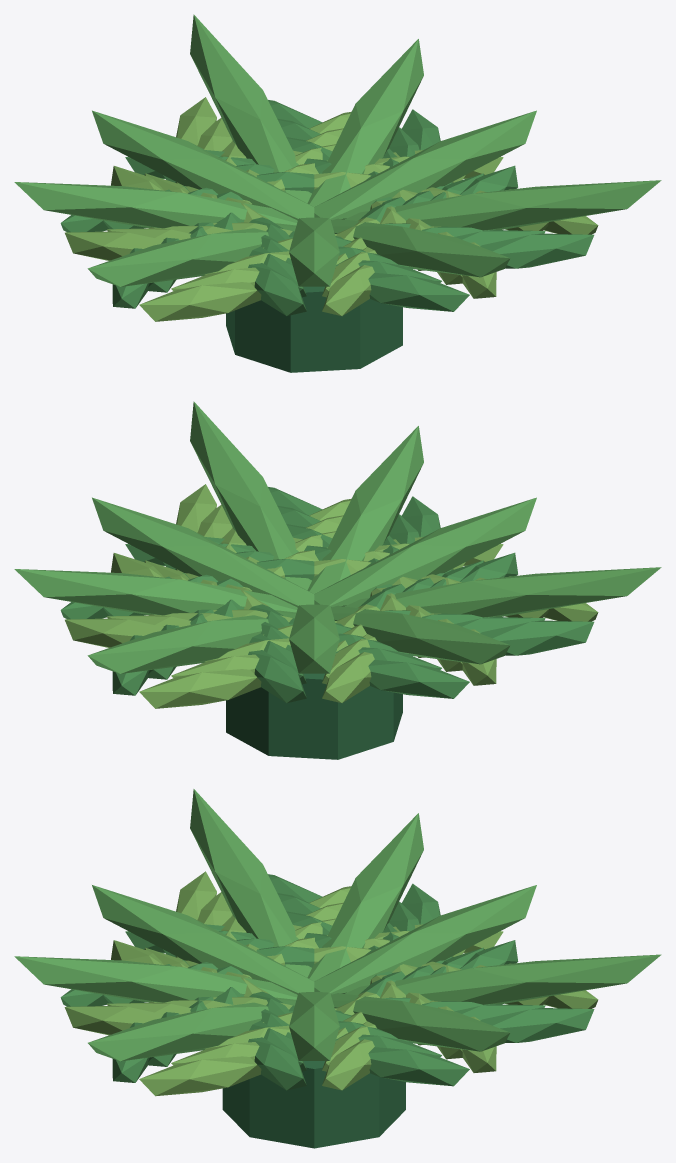
File: fern-cluster.glb
3 renders of one model, top to bottom at view 1: azimuth 30°, elevation 25°; view 2: azimuth 150°, elevation 25°; view 3: azimuth 270°, elevation 25°, orthographic.
Parts seen in each view (by area): view 1: Fern base, Fern frond 08, Fern frond 00, Fern frond 04, Fern frond 03, Fern frond 02, Fern frond 01, Fern frond 05, Fern frond 07, Fern leaflet.047, Fern frond 06, Fern leaflet.064 (+23 smaller); view 2: Fern base, Fern frond 05, Fern frond 06, Fern frond 01, Fern frond 00, Fern frond 08, Fern frond 07, Fern frond 02, Fern frond 04, Fern leaflet.023, Fern frond 03, Fern leaflet.040 (+23 smaller); view 3: Fern base, Fern frond 02, Fern frond 03, Fern frond 07, Fern frond 06, Fern frond 05, Fern frond 04, Fern frond 08, Fern frond 01, Fern leaflet.071, Fern frond 00, Fern leaflet.016 (+23 smaller).
Boxes of the visible parts, x1,y1,x2,y2 form: Fern base: [226, 286, 402, 372]; Fern frond 08: [345, 180, 661, 230]; Fern frond 00: [314, 110, 536, 220]; Fern frond 04: [14, 182, 297, 228]; Fern frond 03: [92, 110, 314, 220]; Fern frond 02: [190, 14, 311, 203]; Fern frond 01: [307, 39, 423, 206]; Fern frond 05: [87, 225, 295, 286]; Fern frond 07: [331, 218, 510, 277]; Fern leaflet.047: [139, 282, 261, 321]; Fern frond 06: [289, 217, 339, 286]; Fern leaflet.064: [368, 272, 469, 311]; Fern base: [226, 673, 402, 759]; Fern frond 05: [345, 567, 661, 617]; Fern frond 06: [314, 497, 536, 607]; Fern frond 01: [14, 569, 297, 615]; Fern frond 00: [92, 497, 314, 607]; Fern frond 08: [190, 401, 311, 590]; Fern frond 07: [307, 426, 423, 593]; Fern frond 02: [87, 612, 295, 673]; Fern frond 04: [331, 605, 510, 664]; Fern leaflet.023: [139, 669, 261, 708]; Fern frond 03: [289, 604, 339, 673]; Fern leaflet.040: [368, 659, 469, 698]; Fern base: [222, 1061, 405, 1148]; Fern frond 02: [344, 954, 661, 1004]; Fern frond 03: [314, 885, 536, 994]; Fern frond 07: [14, 956, 297, 1002]; Fern frond 06: [92, 885, 314, 994]; Fern frond 05: [190, 789, 311, 977]; Fern frond 04: [307, 813, 423, 981]; Fern frond 08: [88, 999, 295, 1061]; Fern frond 01: [331, 993, 510, 1051]; Fern leaflet.071: [139, 1056, 261, 1096]; Fern frond 00: [289, 992, 339, 1060]; Fern leaflet.016: [368, 1047, 469, 1086].
Size of the model in its own units: 1.51 by 0.5017 by 1.63.
